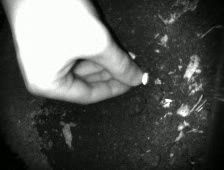corn: (139, 69, 151, 86), (125, 49, 138, 59)
